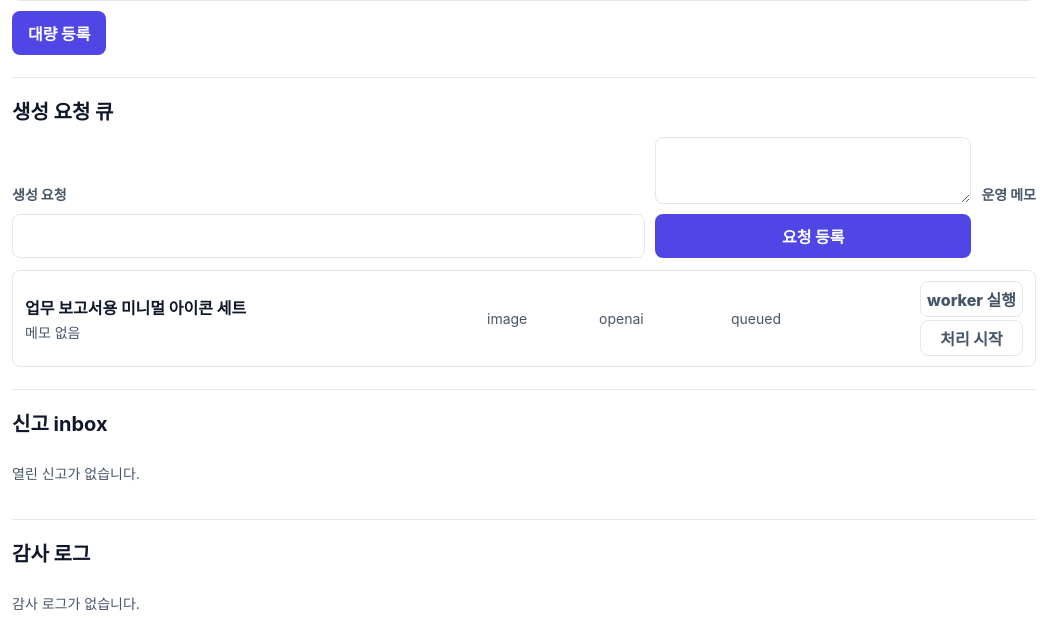
AdminDashboard › runs the worker for a queued generation request
(page scrolled)
Click the button "worker 실행" at [972, 299], box top-left (920, 281), bottom-right (1023, 317)
(page scrolled)
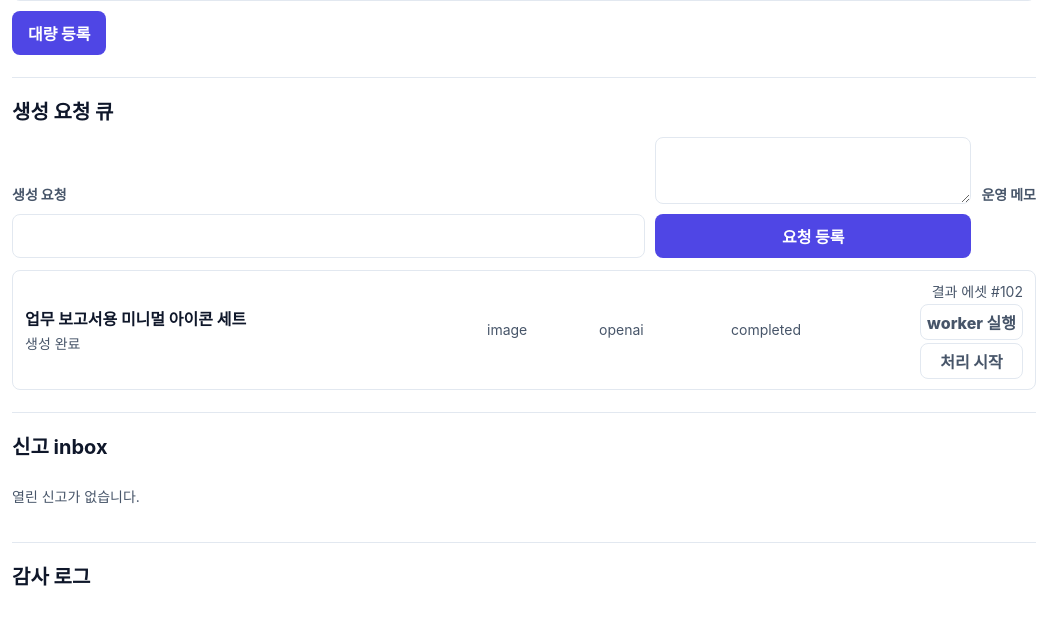
Expected: the text "completed" is shown, top-left (731, 321), bottom-right (801, 338)
Expected: the text "결과 에셋 #102" is shown, top-left (920, 281), bottom-right (1023, 301)
